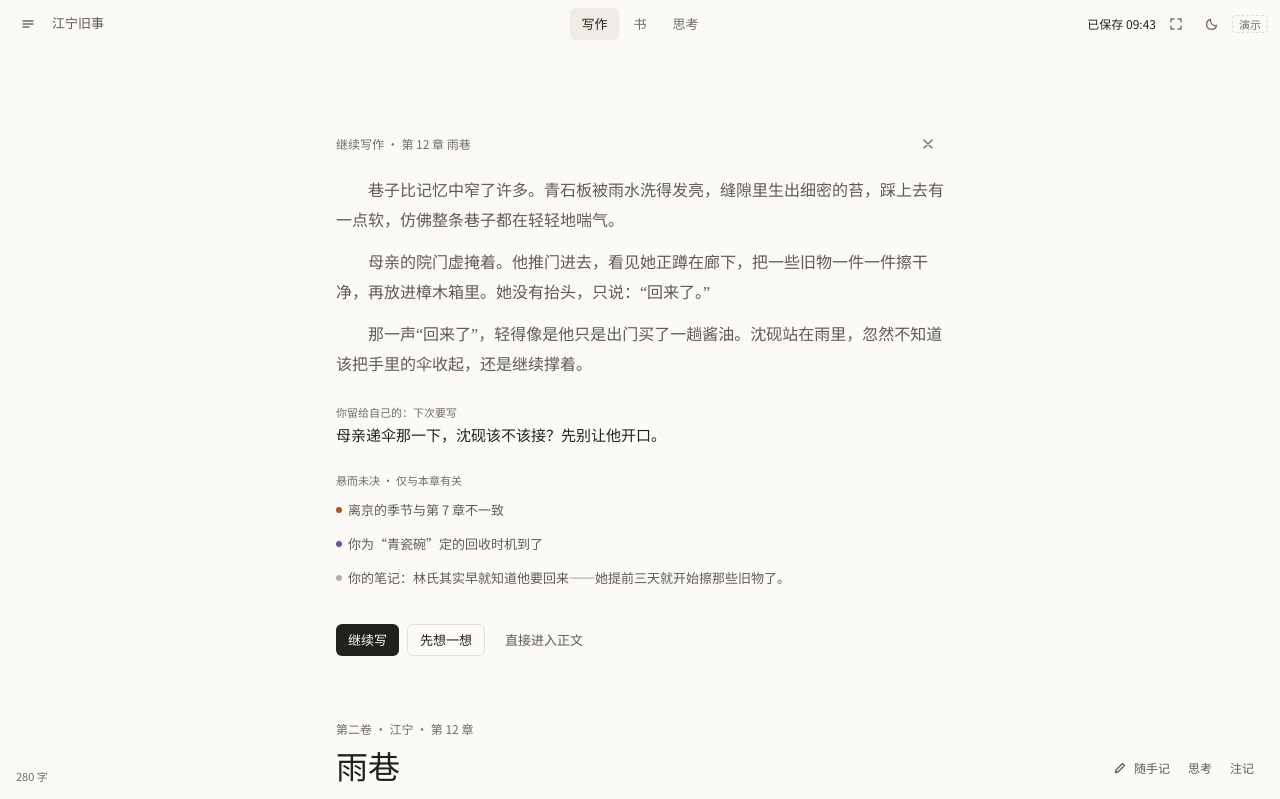
Test: Writer Agent studio › supports author correction of a clearly labeled demo understanding
Expected: the tab "写作" is shown, [570,8,620,40]
Step 1. Click the tab "思考" → click(686, 24), box [660,8,710,40]
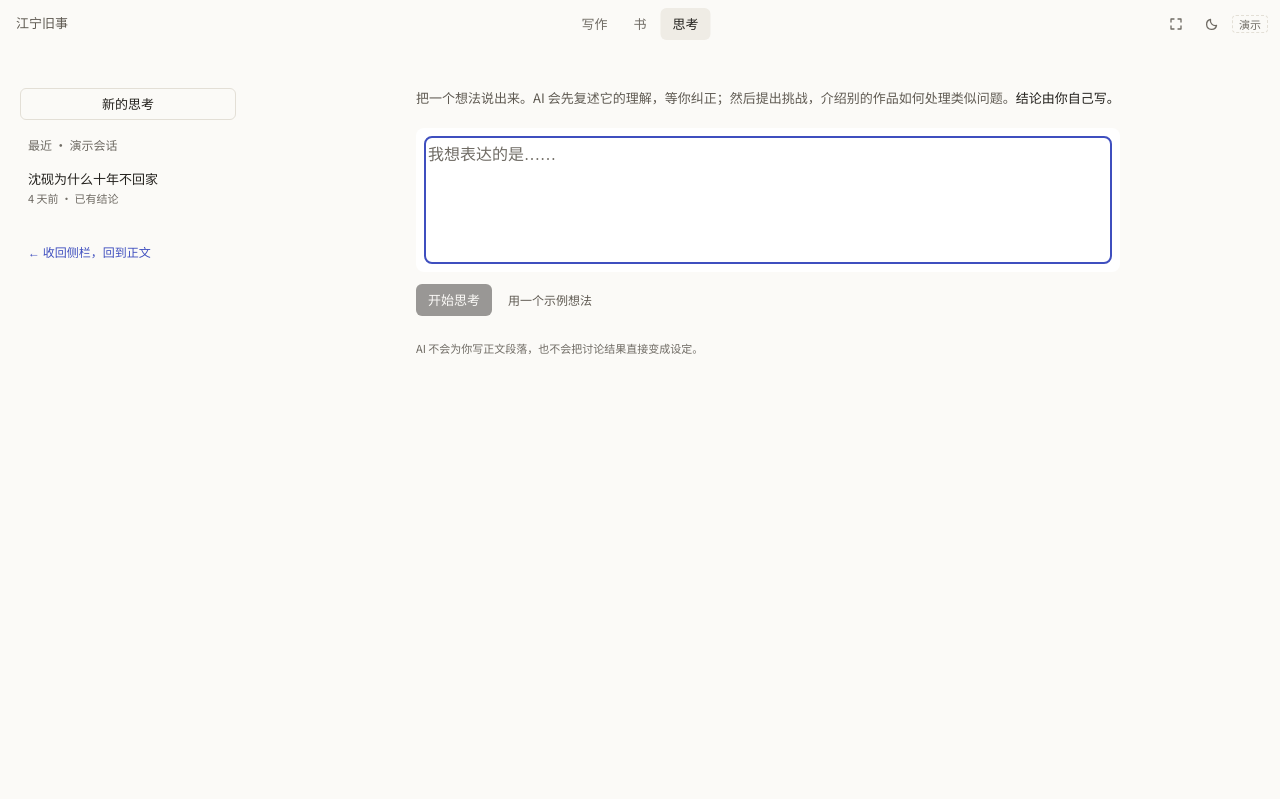
Step 2. Type "测试想法" into the text box named "你的想法" → (768, 200), box [428,140,1108,260]
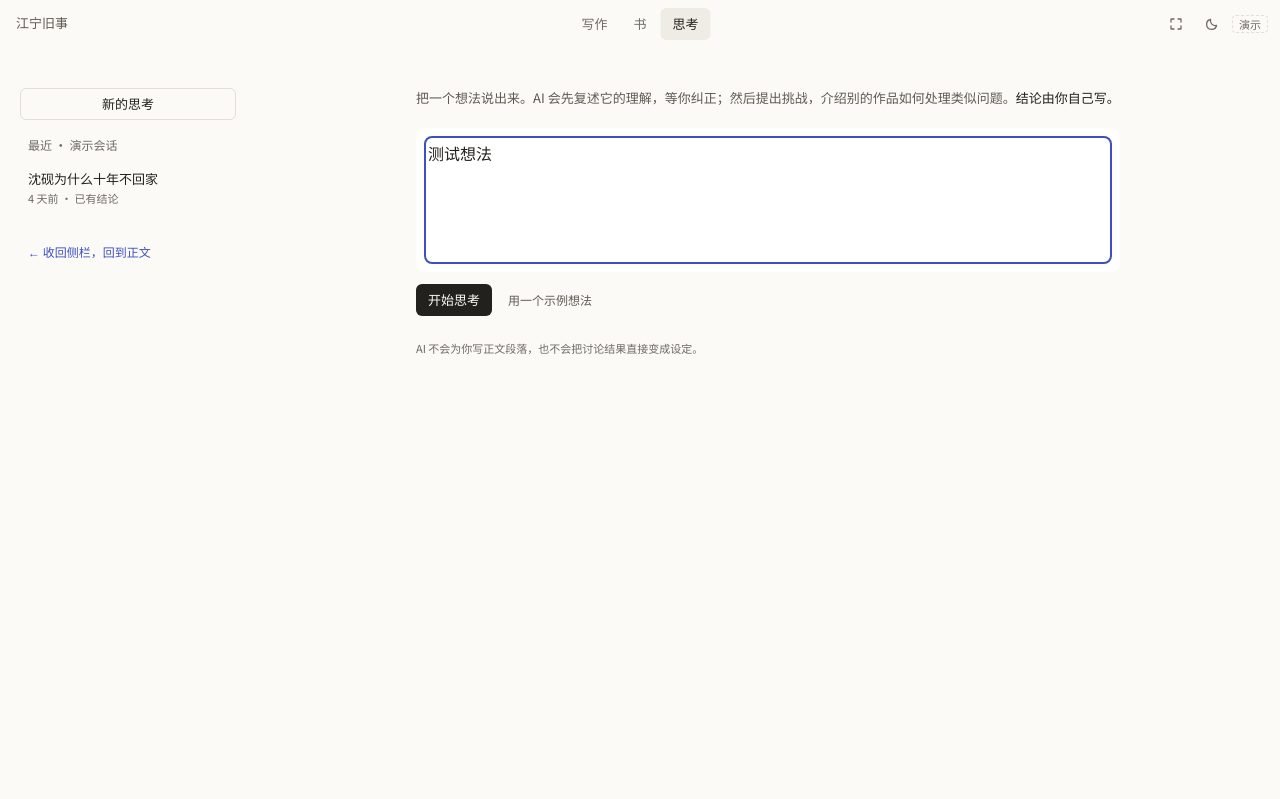
Step 3. Click the button "开始思考" → click(454, 300), box [416,284,492,316]
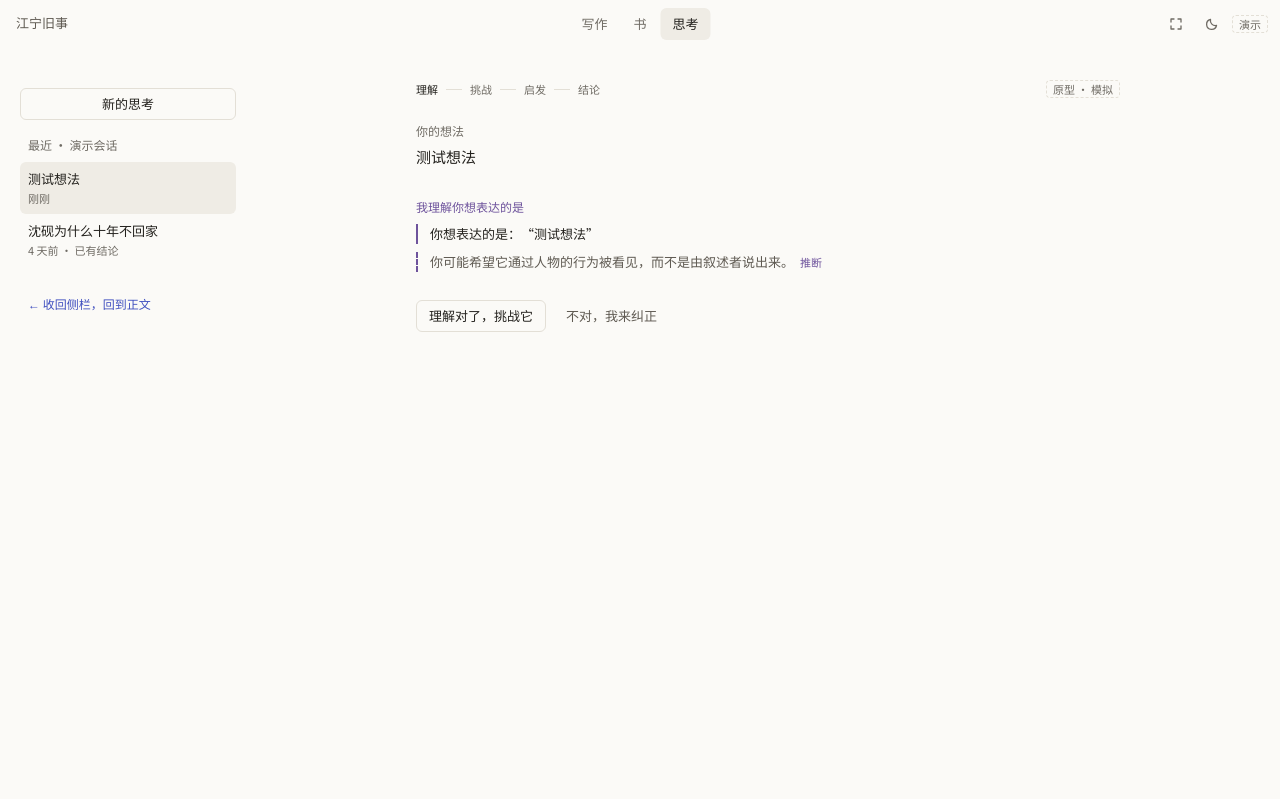
Step 4. Click the button "不对，我来纠正" → click(612, 316), box [554,300,669,332]
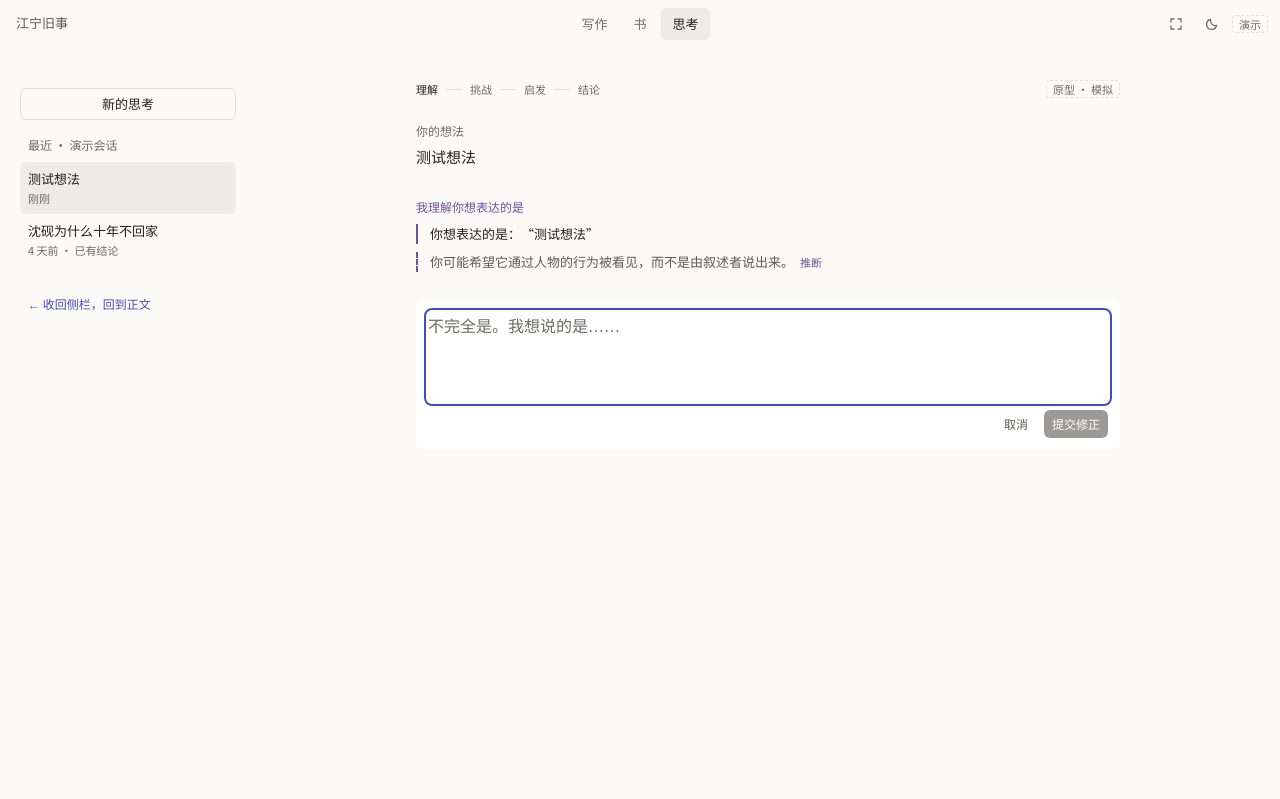
Step 5. Type "作者的纠正" into the text box named "纠正 AI 的理解" → (768, 357), box [428,312,1108,402]
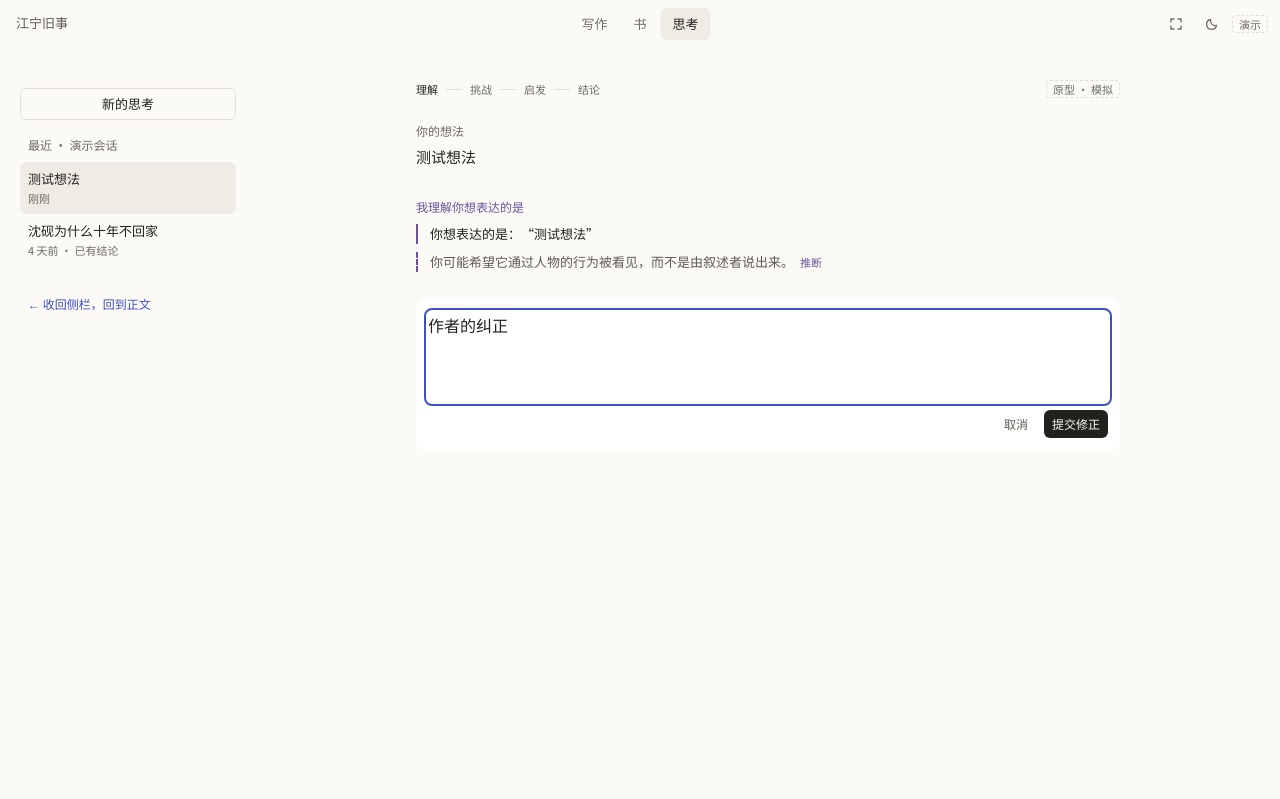
Step 6. Click the button "提交修正" → click(1076, 424), box [1044,410,1108,438]
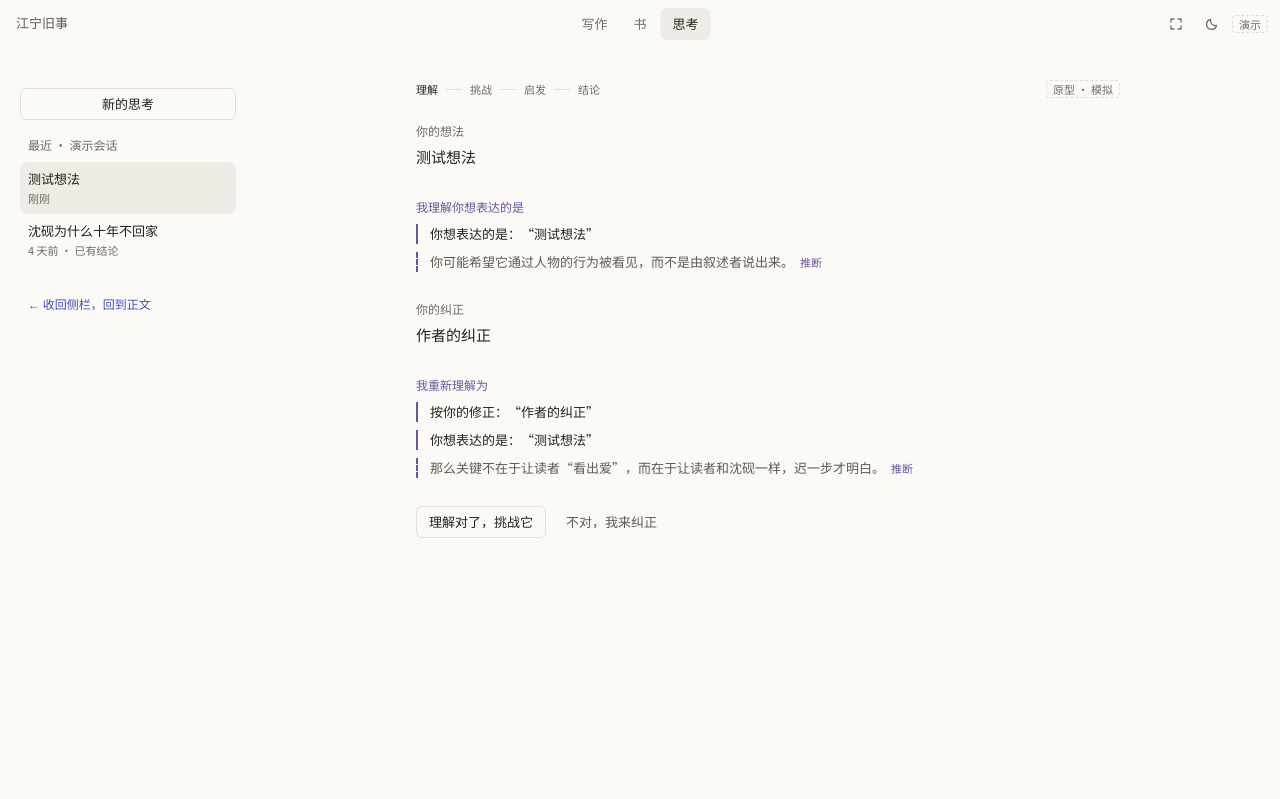
Now the text "我重新理解为" is shown, box [416,376,488,393]
Now the heading "你的纠正" is shown, box [416,300,464,317]
